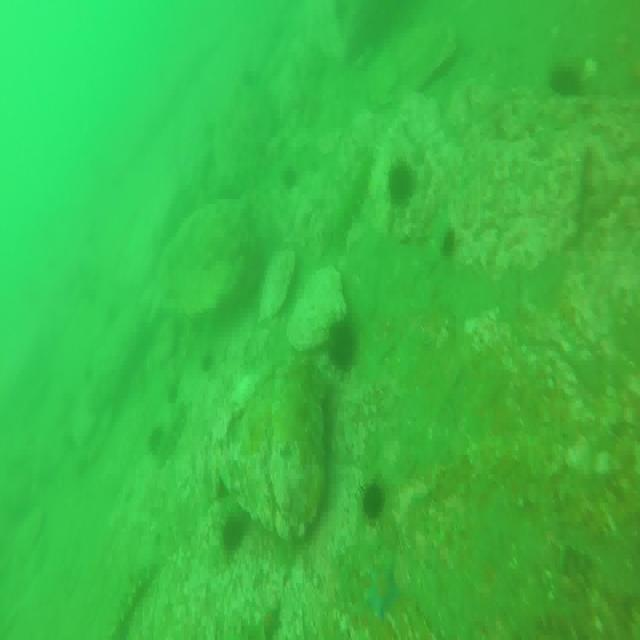echinus: (328, 321, 358, 378), (391, 157, 418, 214), (549, 64, 584, 104), (223, 513, 244, 558), (364, 482, 386, 524), (441, 230, 461, 258), (200, 348, 216, 375)
starfish: (364, 565, 404, 622)
